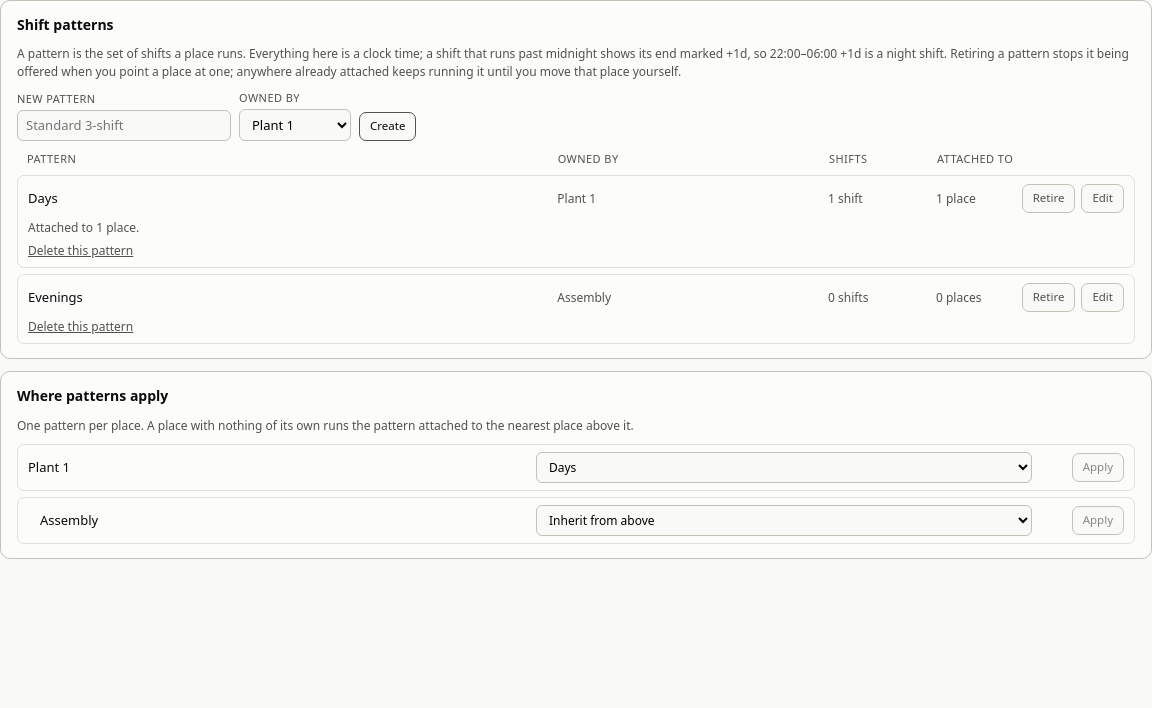
ShiftsPanel — breaks are a table, and an existing one is edited in place (R-250) › S24 ⭐ Edit opens the break PRE-FILLED with its own name and times — not a blank add form
Click the button "Edit" in the row of "Days".
click(1103, 198)  # box [1081,184,1124,213]
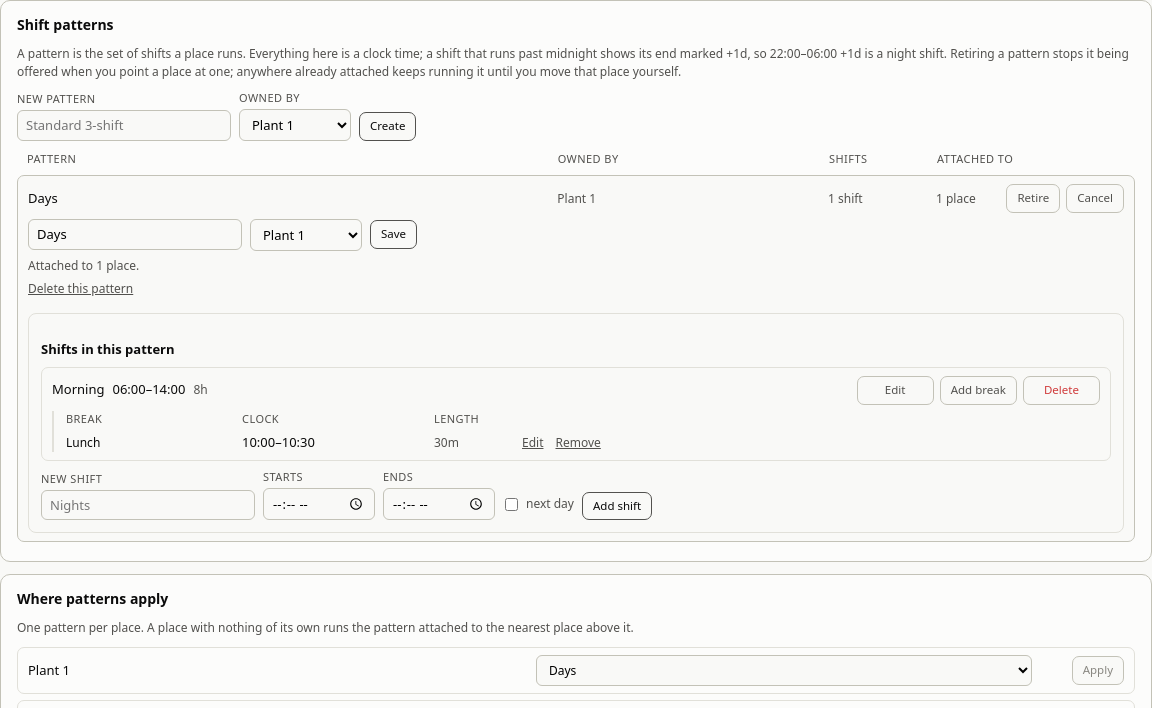
Click the button "Edit" in the row of "Lunch".
click(533, 443)  # box [522,434,544,451]
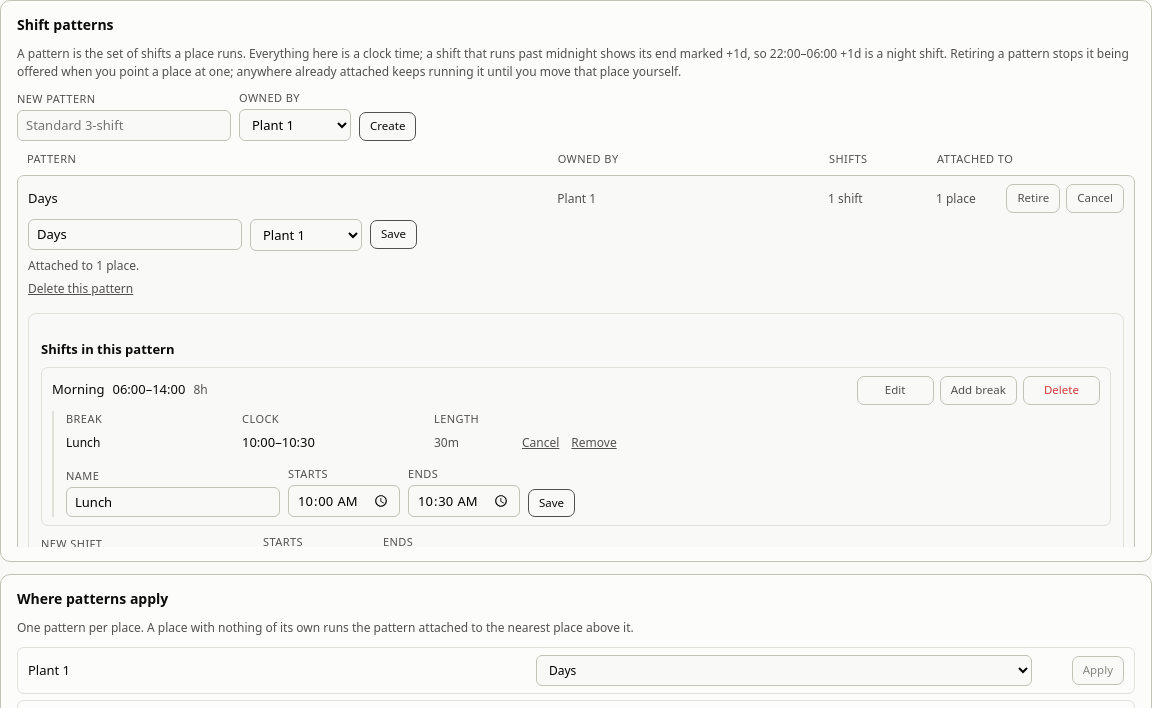
Result: the field named "Break name" holds "Lunch" at [66,487,280,517]
Result: the time field named "Starts" holds "10:00" at [288,485,400,517]
Result: the time field named "Ends" holds "10:30" at [408,485,520,517]
